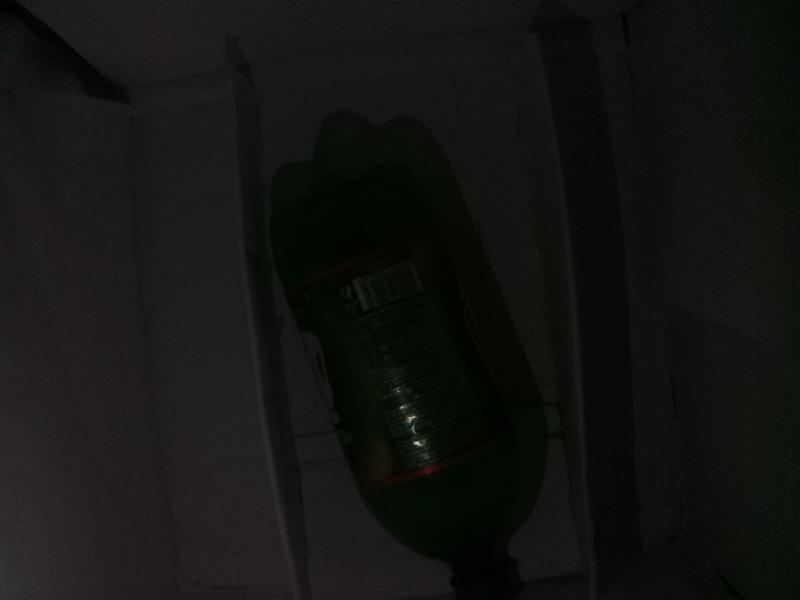BIODEGRADABLE: (222, 0, 547, 494)
